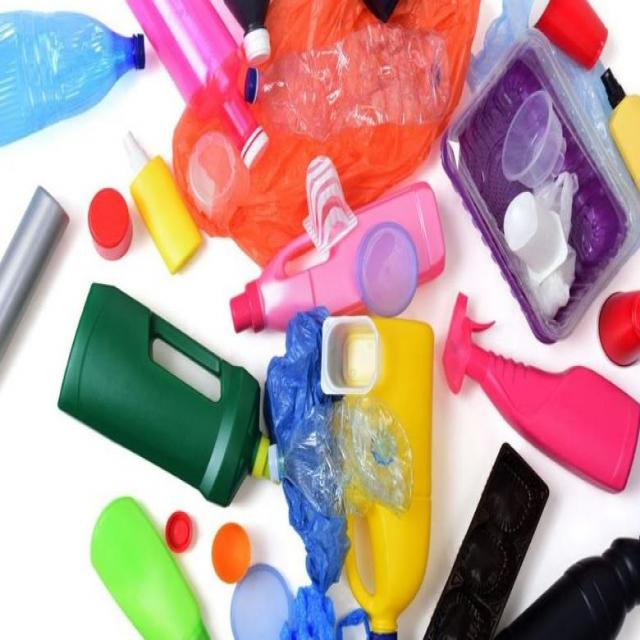dry: (58, 264, 266, 506), (450, 278, 640, 490), (223, 161, 445, 337), (456, 86, 624, 304), (346, 318, 446, 640), (2, 7, 149, 151), (246, 37, 440, 141), (70, 507, 216, 640), (123, 121, 216, 296), (278, 340, 346, 570), (467, 429, 528, 640), (0, 192, 70, 327), (213, 530, 291, 640), (522, 2, 628, 71), (86, 172, 136, 273), (298, 586, 371, 640), (600, 269, 640, 367), (320, 326, 374, 390)
